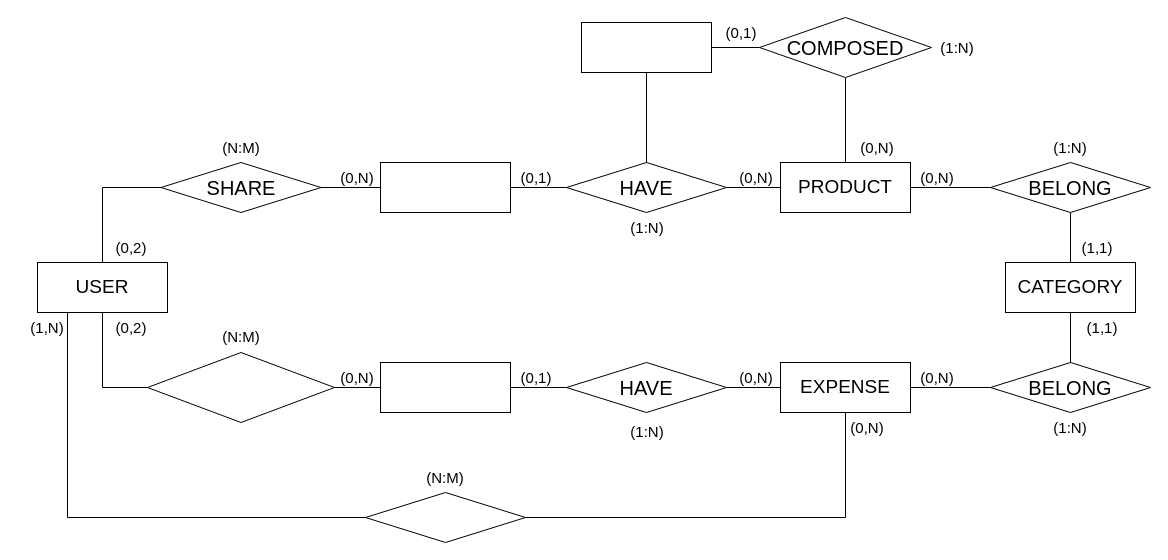
The diagram is 1168 pixels wide and 560 high, and some of its shapes have lost their labels. Here are the shapes that lost their labels. From the top down, the centre of each, then its label:
At pixel 646 47: "SHOPPING LIST".
At pixel 445 187: "PANTRY".
At pixel 240 387: "PARTICIPATES".
At pixel 445 387: "EXPENSE GROUP".
At pixel 445 517: "PAYMENT".
